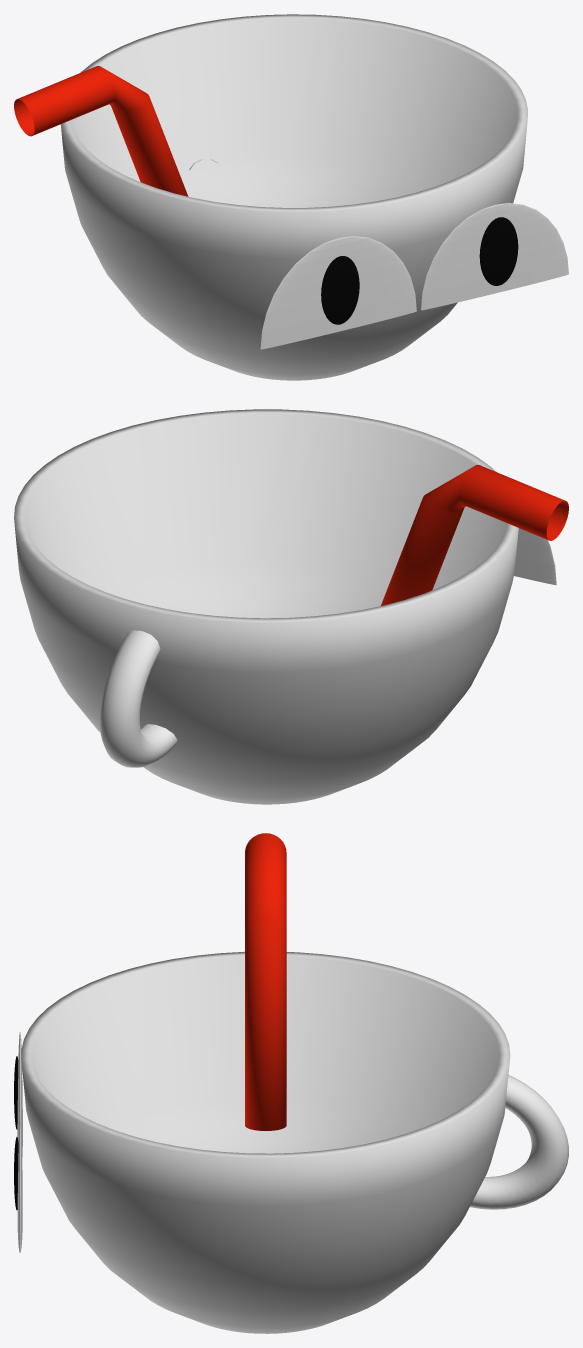
Rendered from КРУЖЖЕК .fbx.
3 renders of one model, top to bottom at view 1: azimuth 30°, elevation 25°; view 2: azimuth 150°, elevation 25°; view 3: azimuth 270°, elevation 25°, orthographic. The views are drawn at different scales.
Visible parts, largest first — view 1: Sphere, Sphere.001, Cylinder, Sphere.002, Sphere.003, Sphere.004; view 2: Sphere, Cylinder, Torus.003, Sphere.001; view 3: Sphere, Cylinder, Torus.003, Sphere.002.
Boxes of the visible parts, x1,y1,x2,y2 form: Sphere: [60, 14, 527, 380]; Sphere.001: [260, 236, 416, 349]; Cylinder: [14, 65, 188, 196]; Sphere.002: [421, 203, 568, 310]; Sphere.003: [321, 256, 359, 324]; Sphere.004: [479, 217, 518, 285]; Sphere: [14, 409, 518, 804]; Cylinder: [381, 464, 568, 605]; Torus.003: [100, 630, 177, 767]; Sphere.001: [514, 528, 556, 585]; Sphere: [21, 951, 510, 1333]; Cylinder: [245, 833, 286, 1130]; Torus.003: [470, 1075, 568, 1209]; Sphere.002: [17, 1117, 22, 1252].
Bounding box in the file's own units: 234 × 161 × 227.
